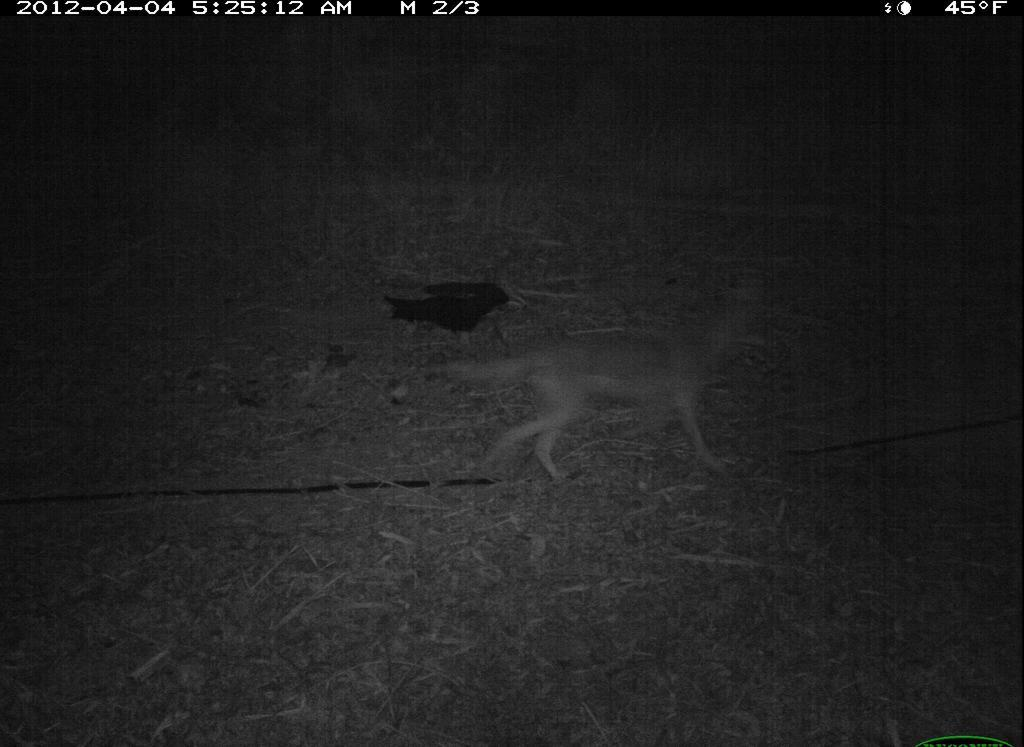coyote: (447, 273, 777, 491)
